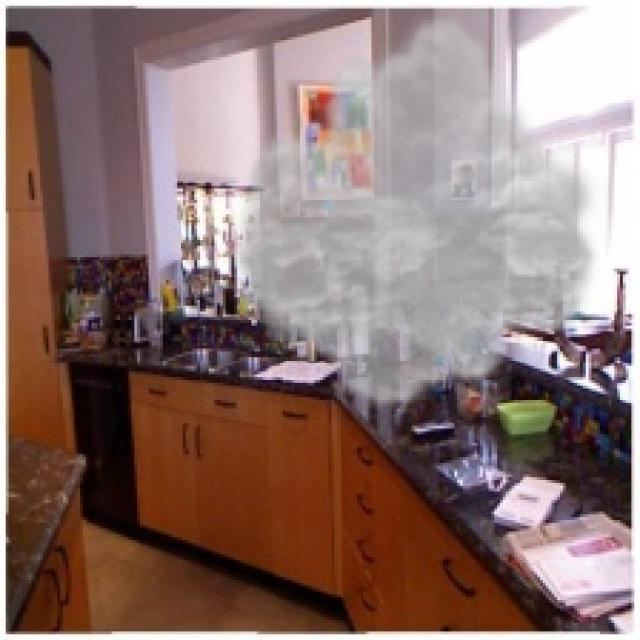Smoke: (225, 9, 606, 412)
